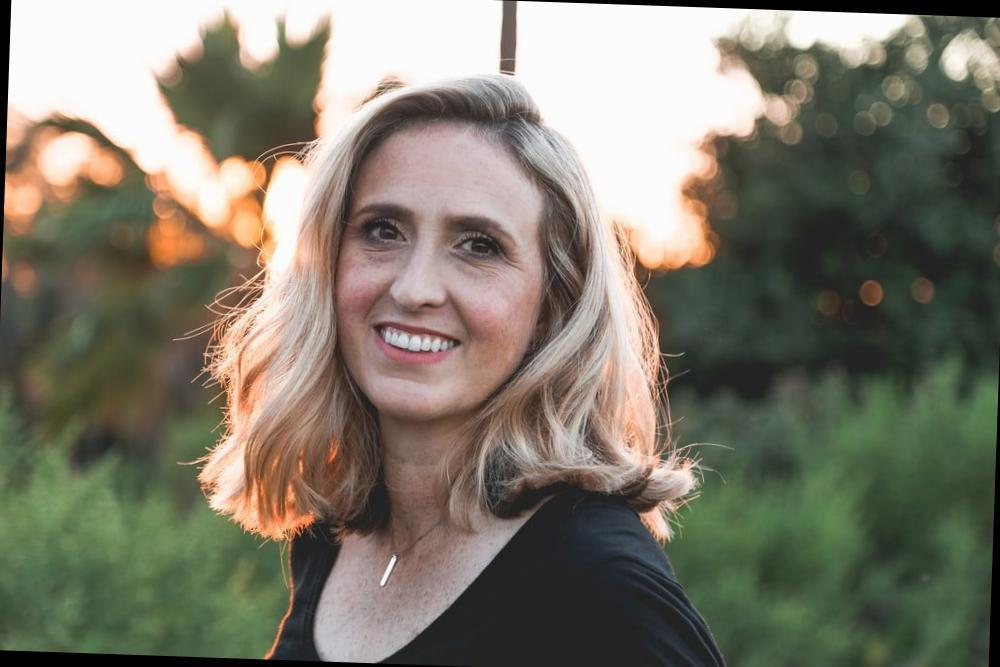Sober: (355, 126, 530, 414)
